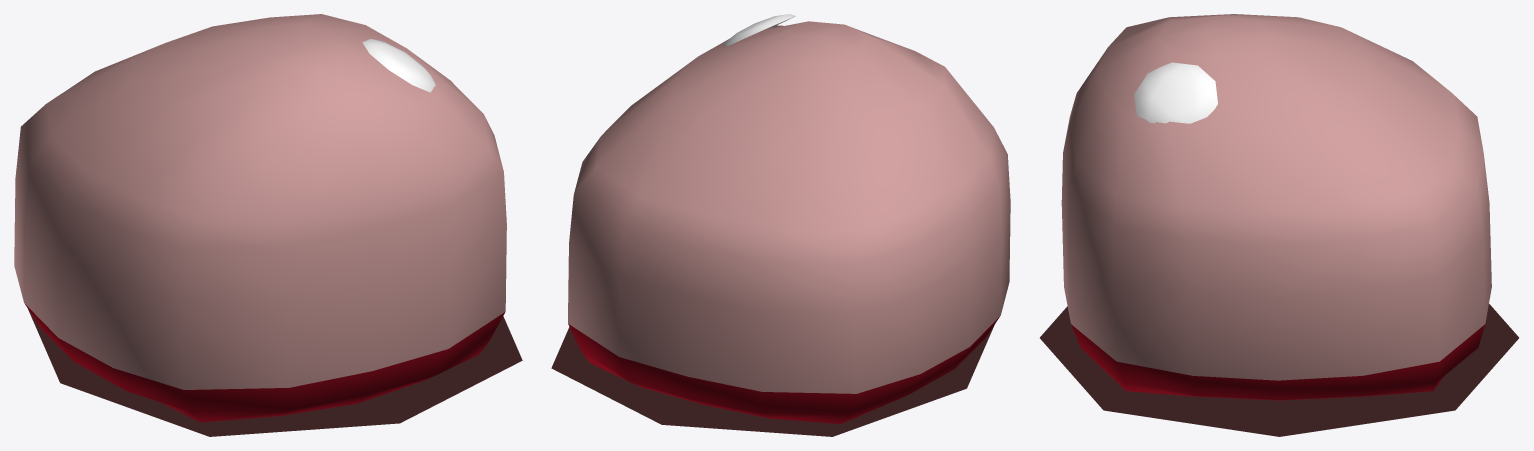
Rendered from Oozium238Mesh.WhiteNova.glb.
3 renders of one model, left to right at view 1: azimuth 30°, elevation 25°; view 2: azimuth 150°, elevation 25°; view 3: azimuth 270°, elevation 25°, orthographic. The views are drawn at different scales.
Parts seen in each view (by area): view 1: Oozium238Mesh.WhiteNova; view 2: Oozium238Mesh.WhiteNova; view 3: Oozium238Mesh.WhiteNova.
Boxes of the visible parts, box(x1,y1,x2,y2) form: Oozium238Mesh.WhiteNova: box(14, 14, 522, 436); Oozium238Mesh.WhiteNova: box(551, 14, 1010, 436); Oozium238Mesh.WhiteNova: box(1040, 14, 1518, 436).
Bounding box in the file's own units: 2.04 × 1.44 × 2.07.
1 material, 1 textured.
